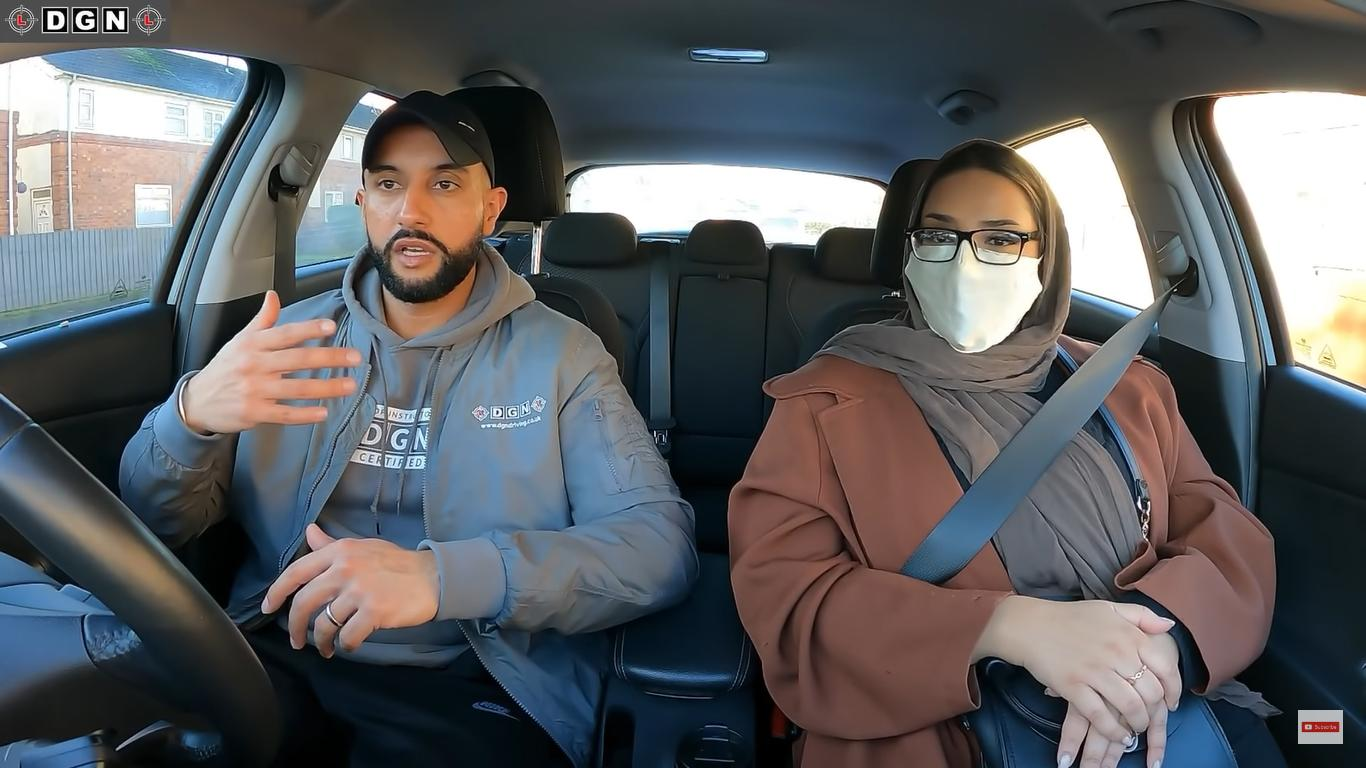no-seatbelt: (292, 314, 548, 664)
seatbelt: (847, 359, 1168, 614)
